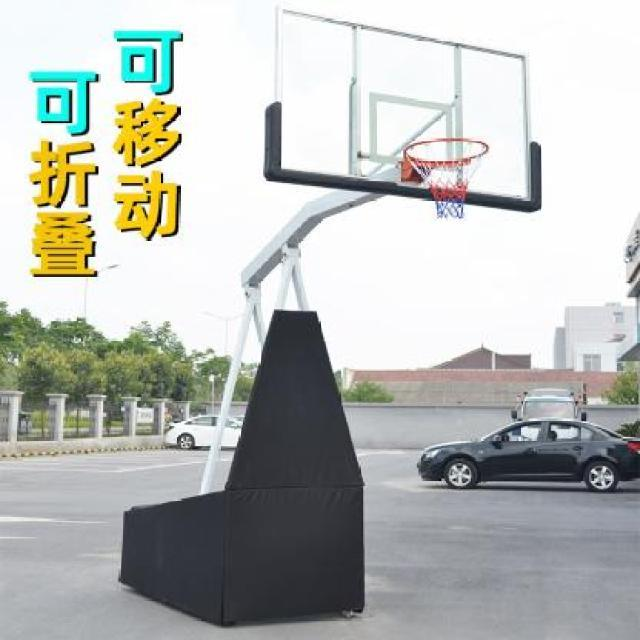rim: (404, 136, 490, 222)
